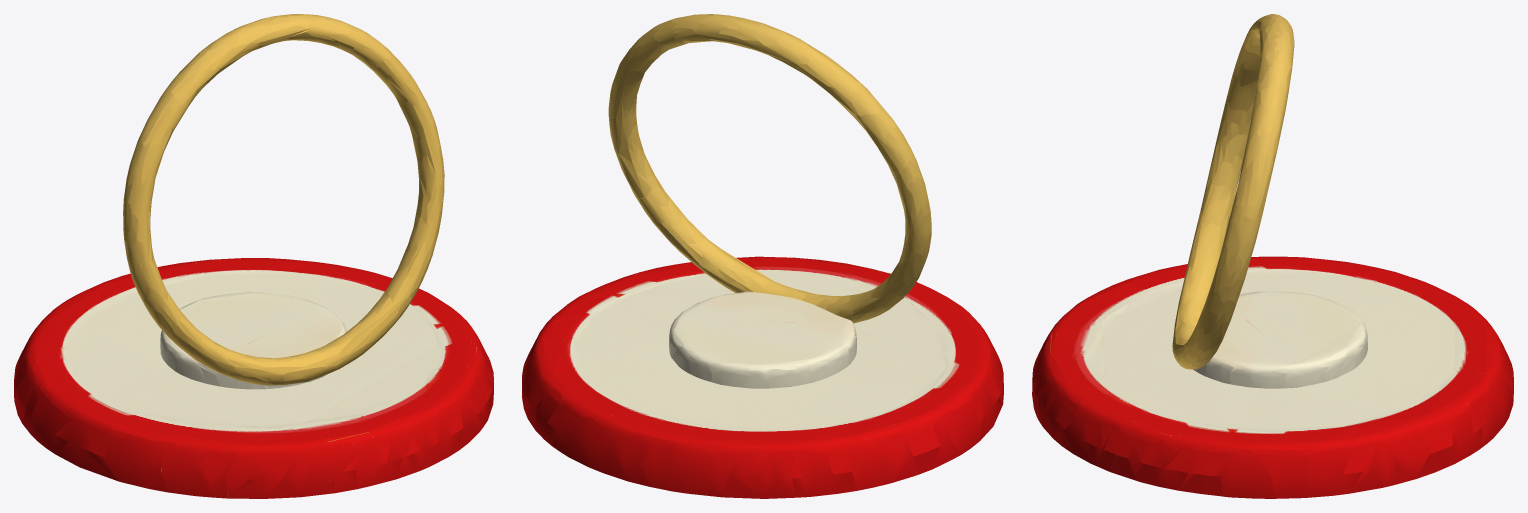
File: spring_pad.glb
3 renders of one model, left to right at view 1: azimuth 30°, elevation 25°; view 2: azimuth 150°, elevation 25°; view 3: azimuth 270°, elevation 25°, orthographic.
Size of the model in its own units: 1.9 by 1.63 by 1.9.
Materials: 1 (1 with a texture image).
